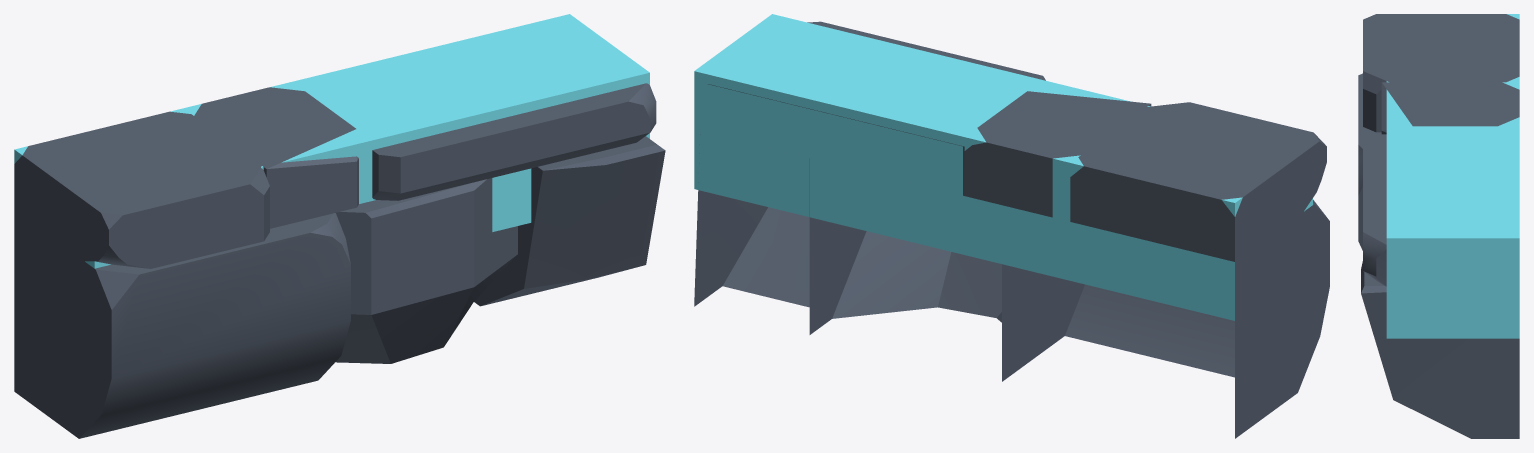
Rendered from PBOX_FlA_BOD_02.FBX.
3 views of the same model, side by side, from view 1: azimuth 30°, elevation 25°; view 2: azimuth 150°, elevation 25°; view 3: azimuth 270°, elevation 25° (orthographic). The views are drawn at different scales.
Visible parts, largest first — view 1: PBOX2_SUB_FlA_MOD_002, PBOX_FlA_BOD_02; view 2: PBOX2_SUB_FlA_MOD_002, PBOX_FlA_BOD_02; view 3: PBOX2_SUB_FlA_MOD_002, PBOX_FlA_BOD_02.
Boxes of the visible parts, left/top/right/bottom form: PBOX2_SUB_FlA_MOD_002: left=14, top=83, right=665, bottom=438; PBOX_FlA_BOD_02: left=14, top=14, right=649, bottom=268; PBOX2_SUB_FlA_MOD_002: left=694, top=21, right=1329, bottom=438; PBOX_FlA_BOD_02: left=694, top=14, right=1312, bottom=320; PBOX2_SUB_FlA_MOD_002: left=1358, top=14, right=1519, bottom=438; PBOX_FlA_BOD_02: left=1386, top=14, right=1519, bottom=338.
Bounding box in the file's own units: 12 × 5 × 3.64.
